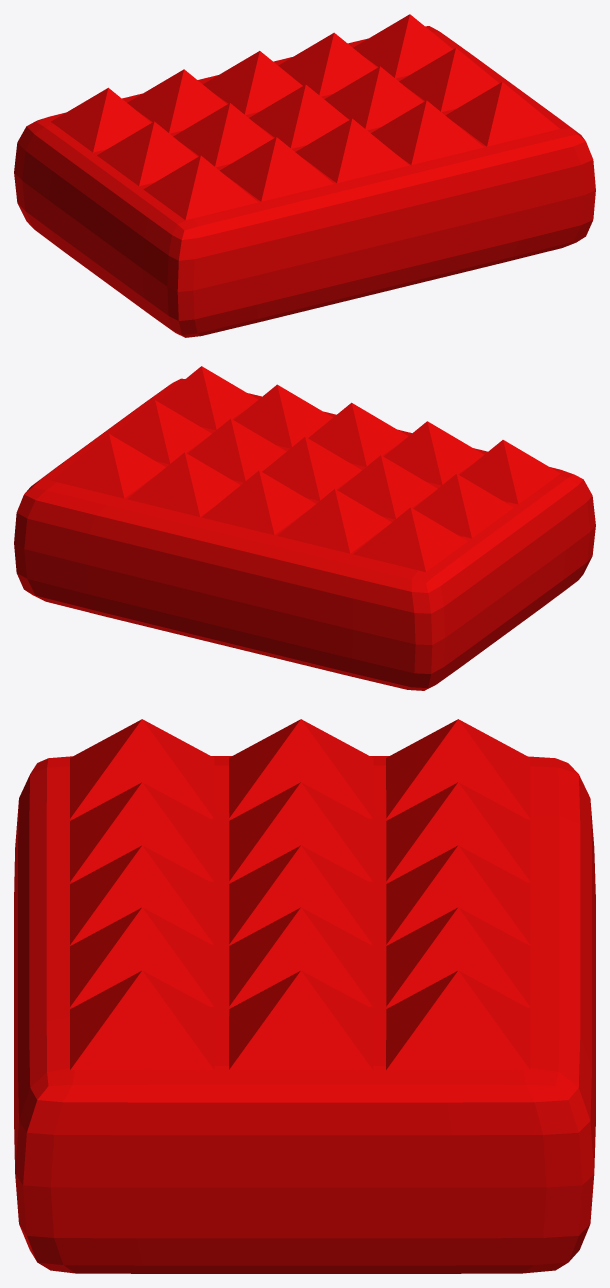
Rendered from obstacle.fbx.
The picture shows the model from 3 angles, top to bottom: view 1: azimuth 30°, elevation 25°; view 2: azimuth 150°, elevation 25°; view 3: azimuth 270°, elevation 25°; orthographic projection. The views are drawn at different scales.
Visible parts, largest first — view 1: Cube.057; view 2: Cube.057; view 3: Cube.057.
Part boxes in pixels (box(x1,y1,x2,y2)): Cube.057: box(14, 14, 595, 337); Cube.057: box(14, 366, 595, 690); Cube.057: box(14, 719, 595, 1273).
Size of the model in its own units: 197 by 68.57 by 137.
